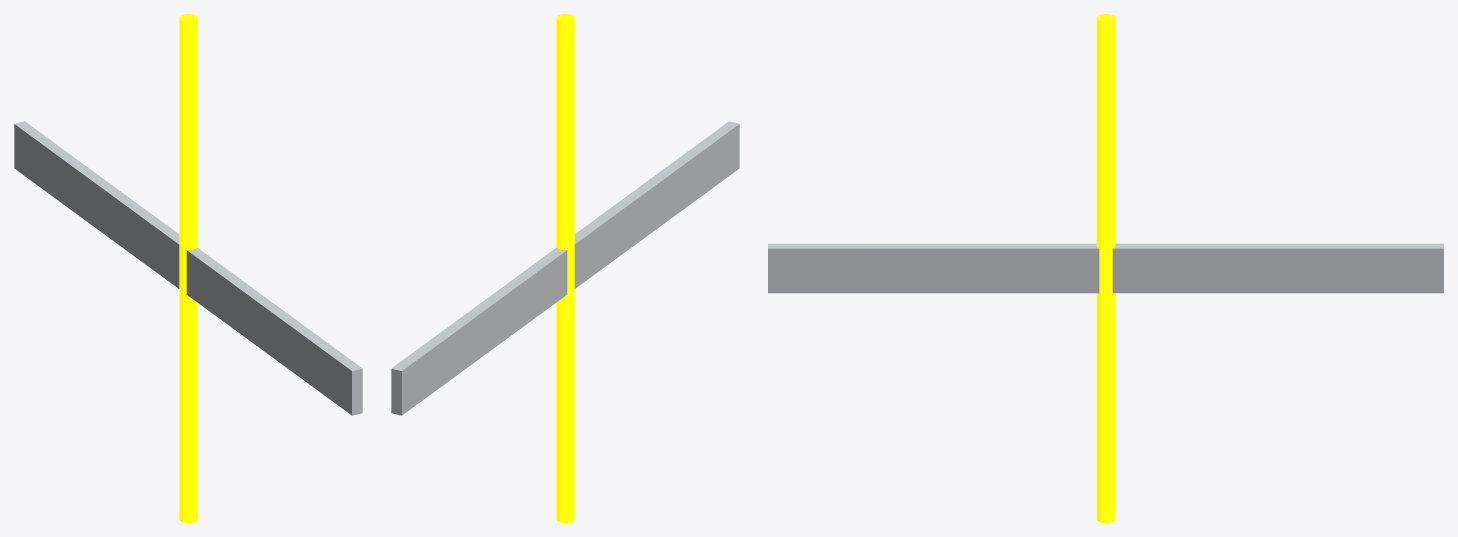
The model's file is medieval_greatsword.glb.
3 views of the same model, side by side, from view 1: azimuth 30°, elevation 25°; view 2: azimuth 150°, elevation 25°; view 3: azimuth 270°, elevation 25° (orthographic).
Parts seen in each view (by area): view 1: Cube, Cylinder; view 2: Cube, Cylinder; view 3: Cube, Cylinder.
Part boxes in pixels (<box>): Cube: <box>14,121,362,415</box>; Cylinder: <box>179,14,197,522</box>; Cube: <box>391,121,739,415</box>; Cylinder: <box>556,14,574,522</box>; Cube: <box>768,243,1443,293</box>; Cylinder: <box>1096,14,1115,522</box>.
Size of the model in its own units: 0.03 by 0.9 by 1.1.
